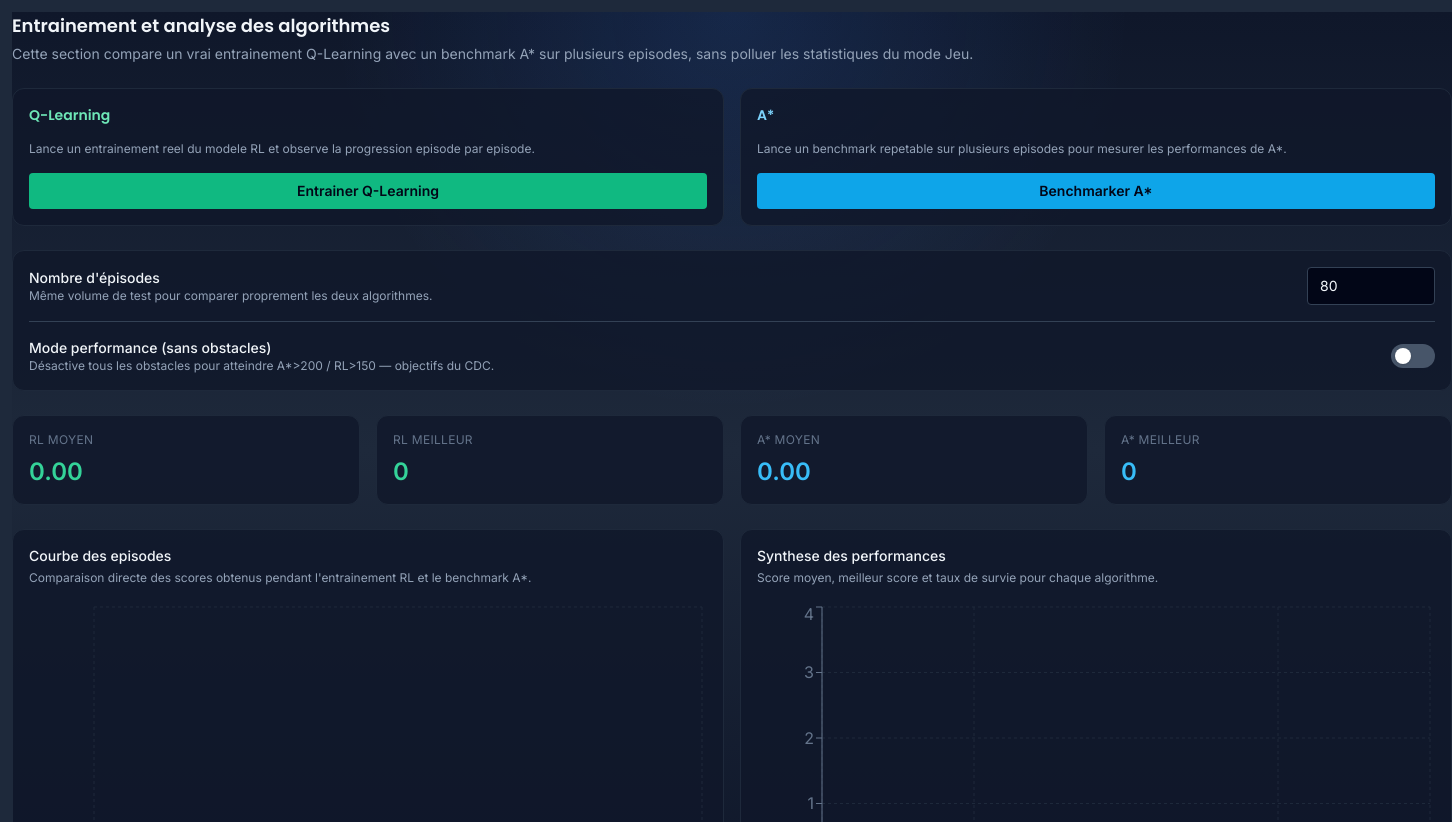
TrainingPanel › le toggle obstacle bascule l'état et affiche le message de performance
The image size is (1452, 822).
Click the 3rd button.
click(1413, 356)  # box [1391,344,1435,368]
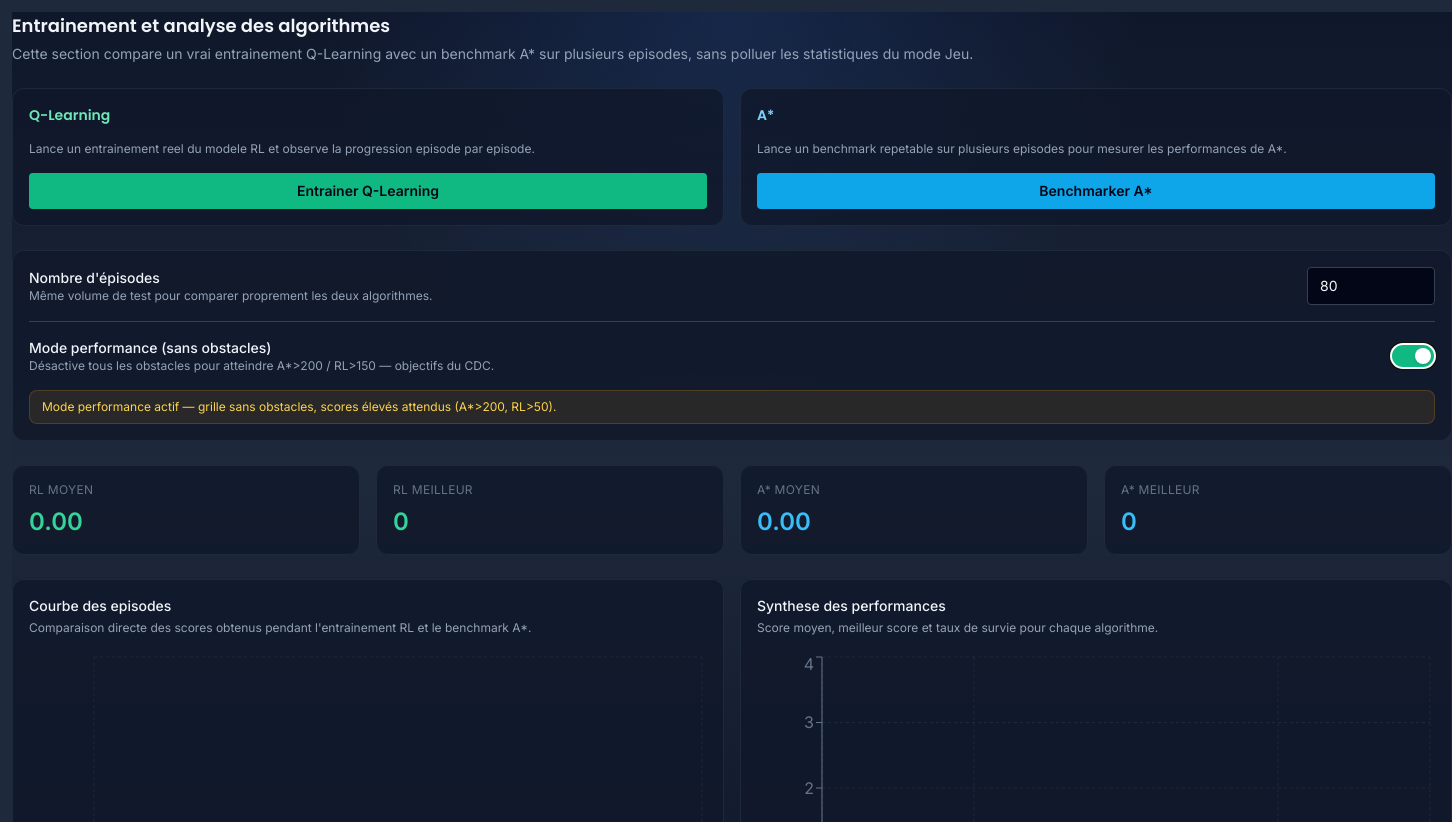
Now the text "Mode performance actif" is shown, box [42,399,556,414]
